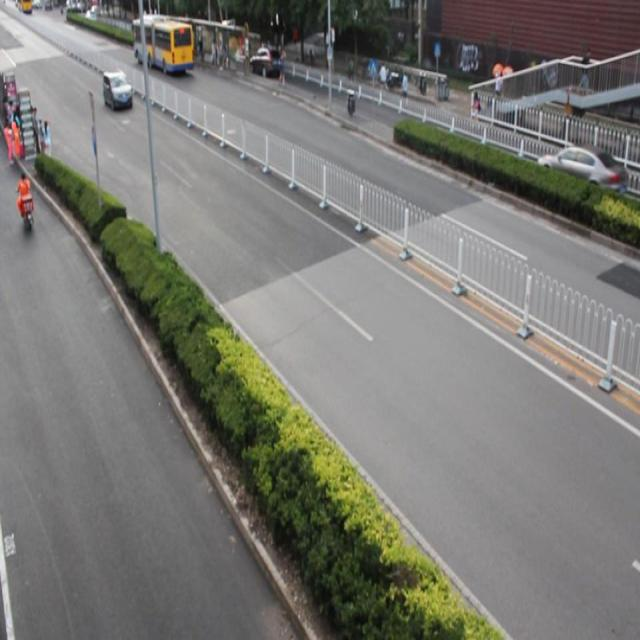car: (534, 142, 628, 211), (102, 70, 132, 111), (247, 44, 281, 79)
van: (134, 15, 194, 76)
